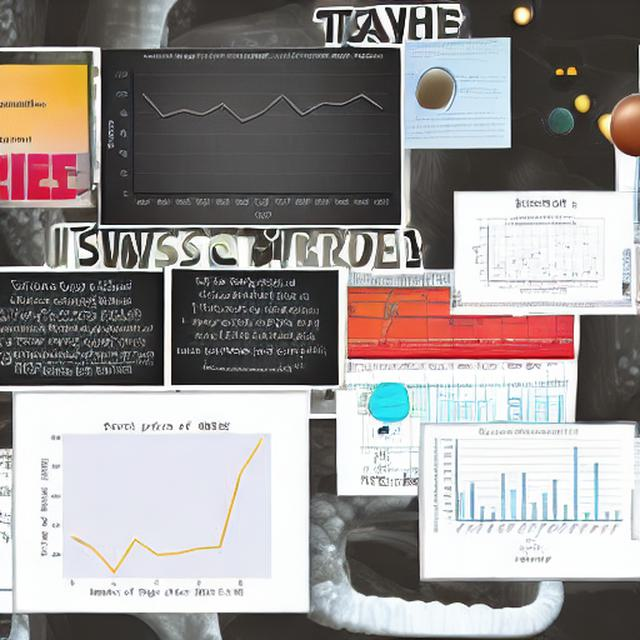Graph: (29, 404, 298, 606), (103, 49, 401, 225), (429, 428, 625, 543), (473, 221, 601, 294)
